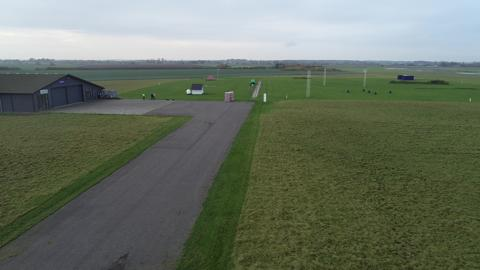RockwoolPallet: (229, 91, 235, 101)
